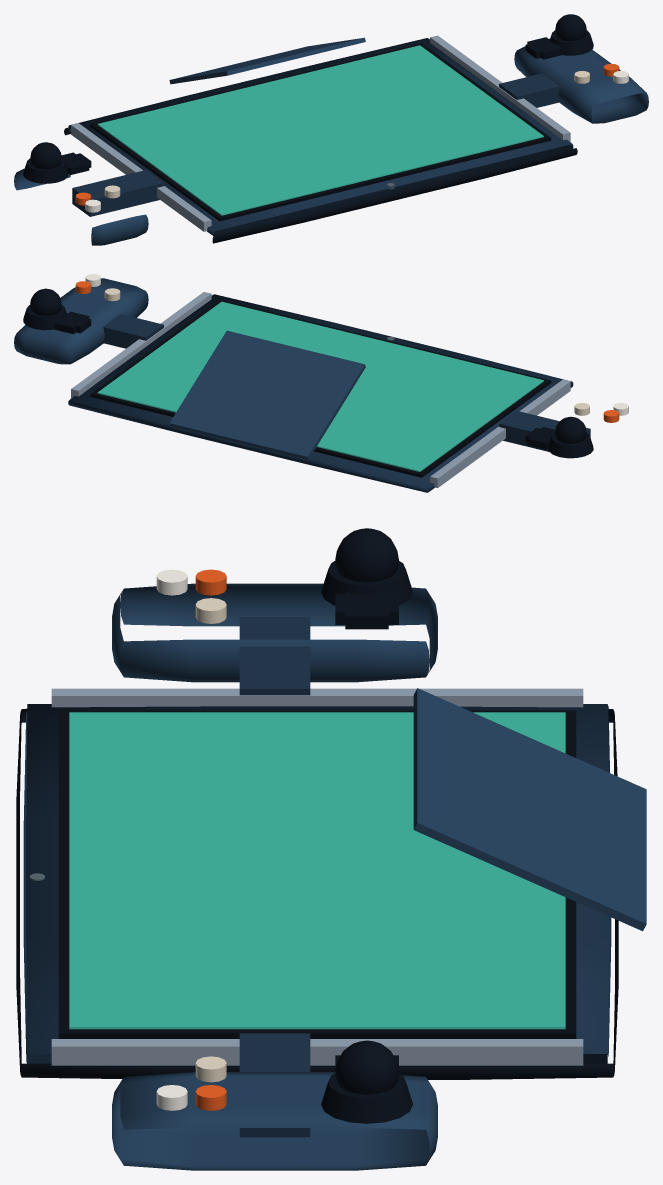
The model's file is model-hybrid-05.glb.
3 renders of one model, top to bottom at view 1: azimuth 30°, elevation 25°; view 2: azimuth 150°, elevation 25°; view 3: azimuth 270°, elevation 25°, orthographic. The views are drawn at different scales.
Visible parts, largest first — view 1: 平板屏幕辉光, 平板边框, 手柄右外壳, 平板屏幕, 平板本体, 手柄左连接臂, 侧轨左, 支撑脚, 侧轨右, 手柄左外壳, 手柄右连接臂, 手柄左摇杆座 (+5 smaller); view 2: 平板屏幕辉光, 支撑脚, 平板边框, 手柄右外壳, 平板屏幕, 侧轨左, 侧轨右, 手柄右连接臂, 手柄左连接臂, 手柄左摇杆座, 手柄右摇杆帽, 手柄左摇杆帽 (+3 smaller); view 3: 平板屏幕辉光, 支撑脚, 手柄右外壳, 平板边框, 手柄左外壳, 平板屏幕, 侧轨右, 侧轨左, 平板本体, 手柄左连接臂, 手柄右连接臂, 手柄右摇杆座 (+4 smaller).
Part boxes in pixels (bbox=[...]): 平板屏幕辉光: bbox=[97, 45, 543, 215]; 平板边框: bbox=[68, 38, 573, 236]; 手柄右外壳: bbox=[514, 46, 648, 123]; 平板屏幕: bbox=[90, 43, 551, 221]; 平板本体: bbox=[64, 128, 577, 243]; 手柄左连接臂: bbox=[72, 170, 163, 216]; 侧轨左: bbox=[71, 123, 211, 231]; 支撑脚: bbox=[169, 37, 365, 84]; 侧轨右: bbox=[430, 35, 570, 141]; 手柄左外壳: bbox=[14, 168, 148, 245]; 手柄右连接臂: bbox=[499, 73, 559, 107]; 手柄左摇杆座: bbox=[23, 158, 68, 183]; 平板屏幕辉光: bbox=[97, 301, 543, 471]; 支撑脚: bbox=[169, 330, 365, 459]; 平板边框: bbox=[68, 294, 573, 492]; 手柄右外壳: bbox=[14, 278, 148, 364]; 平板屏幕: bbox=[90, 299, 551, 477]; 侧轨左: bbox=[430, 379, 570, 487]; 侧轨右: bbox=[71, 292, 211, 398]; 手柄右连接臂: bbox=[103, 314, 163, 348]; 手柄左连接臂: bbox=[499, 411, 590, 451]; 手柄左摇杆座: bbox=[548, 433, 593, 458]; 手柄右摇杆帽: bbox=[30, 288, 61, 315]; 手柄左摇杆帽: bbox=[555, 416, 586, 443]; 平板屏幕辉光: bbox=[69, 712, 565, 1029]; 支撑脚: bbox=[413, 688, 646, 931]; 手柄右外壳: bbox=[112, 1072, 437, 1170]; 平板边框: bbox=[23, 704, 611, 1063]; 手柄左外壳: bbox=[112, 583, 437, 682]; 平板屏幕: bbox=[58, 710, 576, 1038]; 侧轨右: bbox=[51, 1039, 583, 1065]; 侧轨左: bbox=[51, 688, 583, 707]; 平板本体: bbox=[16, 708, 618, 1079]; 手柄左连接臂: bbox=[239, 617, 310, 695]; 手柄右连接臂: bbox=[239, 1033, 310, 1137]; 手柄右摇杆座: bbox=[321, 1073, 412, 1123].
Size of the model in its own units: 0.368 by 0.0469 by 0.1779.
